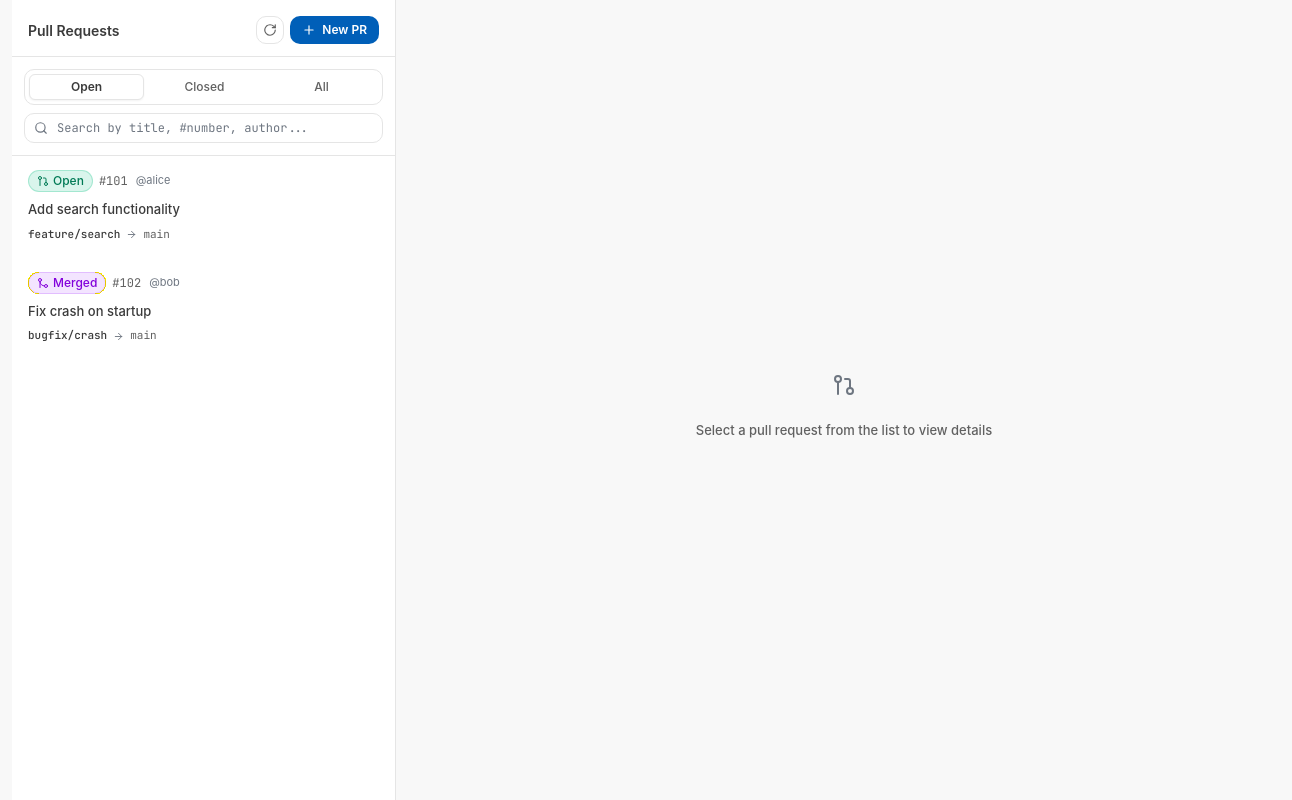
Test: PullRequestsScreen › shows empty list message when search matches no PRs
The image size is (1292, 800).
Type "non-existent" into the field with placeholder "Search by title, #number, author..." at (204, 128), box [24,113,383,143]
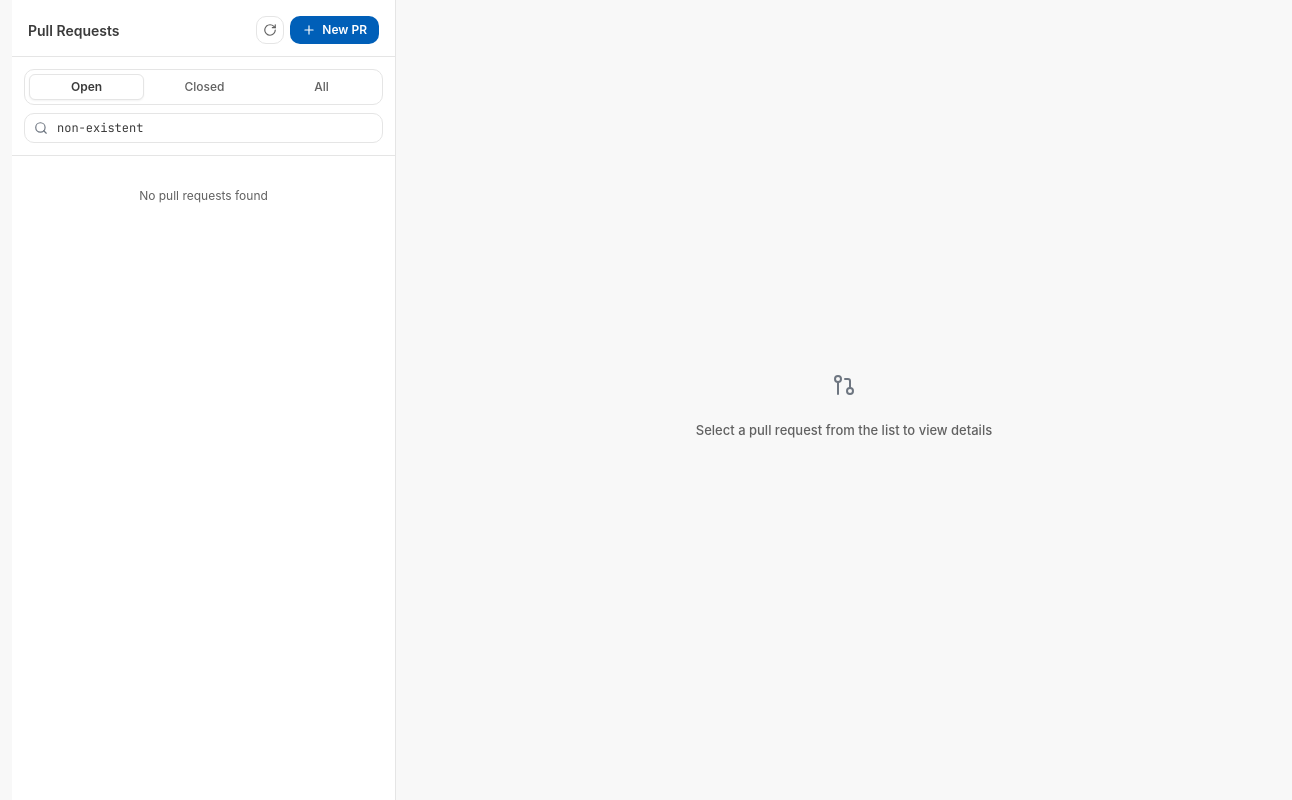
Check: the text "No pull requests found" is shown, box [139,188,268,204]
